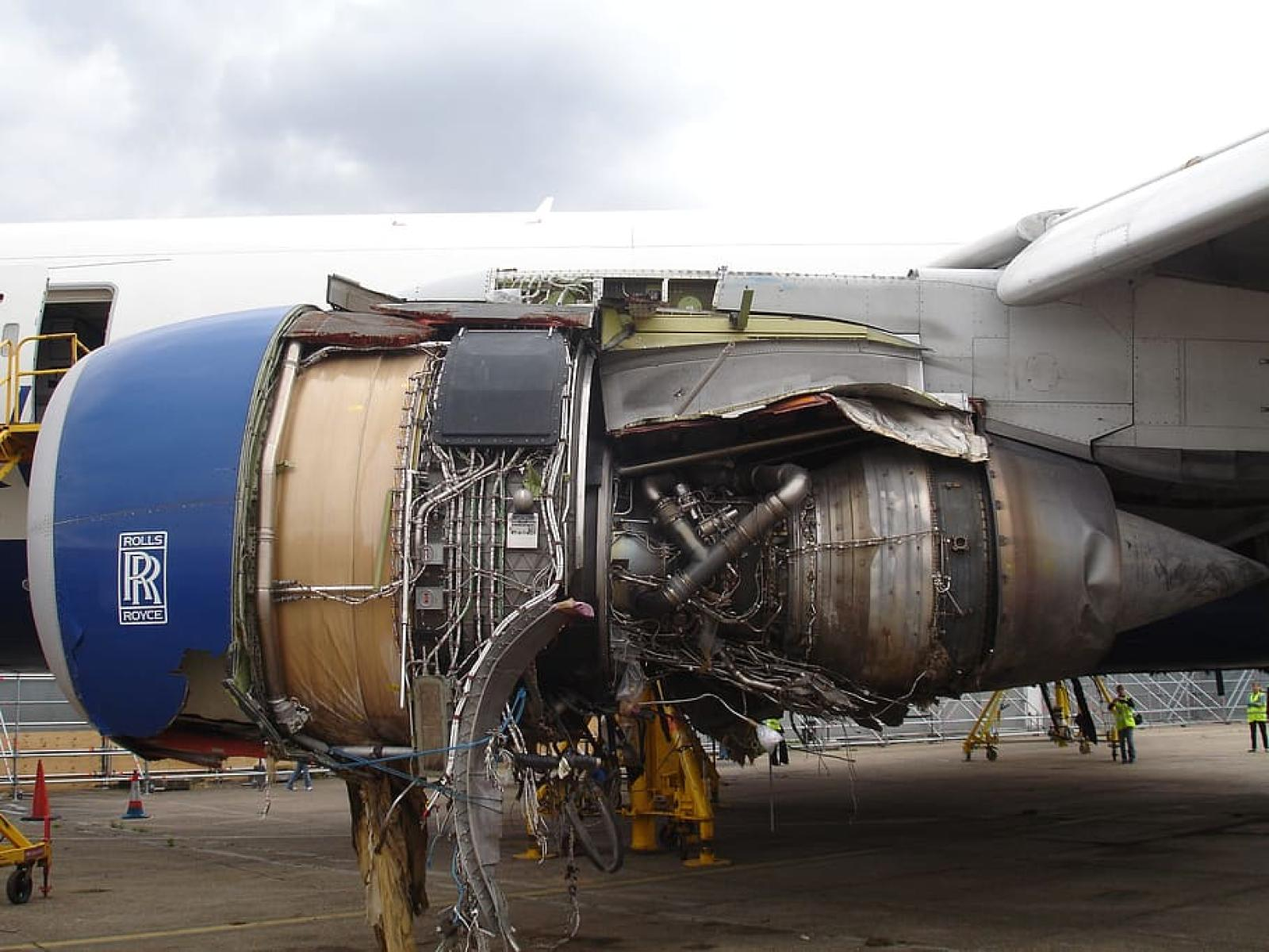Engine_damage: (273, 326, 591, 951), (614, 464, 870, 712), (275, 355, 423, 587), (605, 341, 920, 427), (278, 601, 403, 742), (828, 396, 986, 463), (178, 651, 247, 721)
